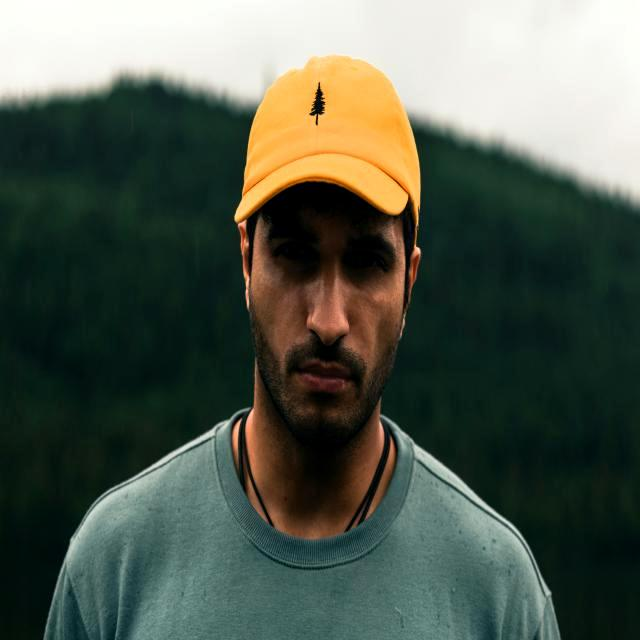no_hard_hat: (235, 55, 420, 234)
person: (45, 55, 560, 640)
